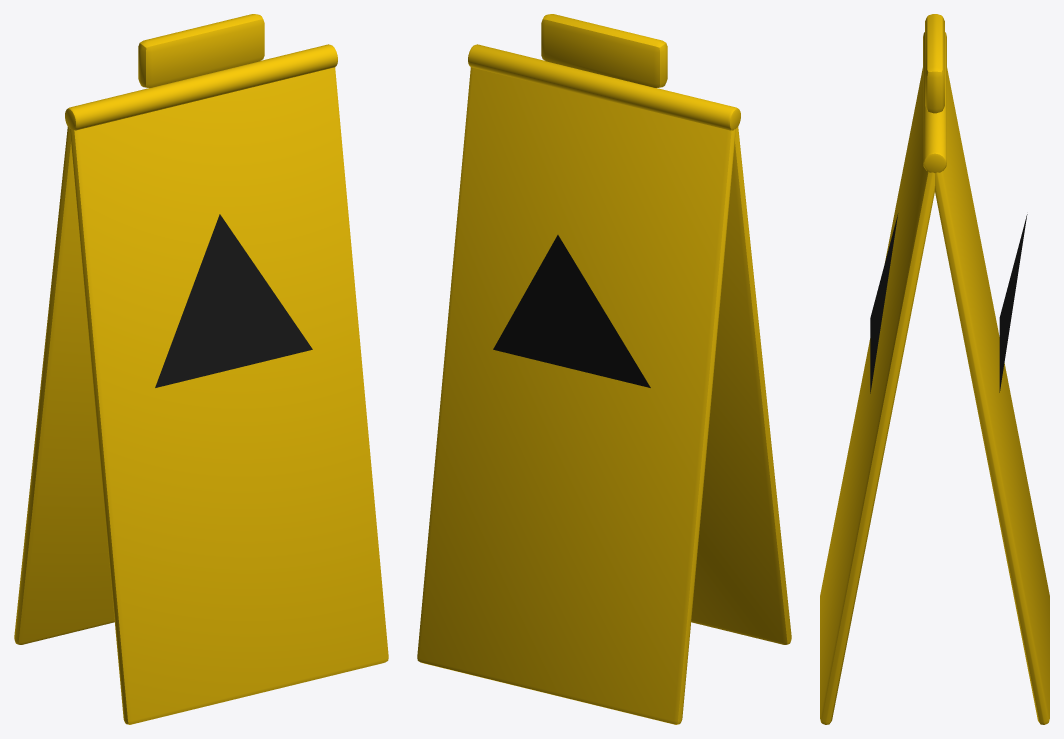
Rendered from WetFloorSign.fbx.
3 renders of one model, left to right at view 1: azimuth 30°, elevation 25°; view 2: azimuth 150°, elevation 25°; view 3: azimuth 270°, elevation 25°, orthographic.
Parts seen in each view (by area): view 1: WetFloorSign; view 2: WetFloorSign; view 3: WetFloorSign.
Boxes of the visible parts, <box> form: WetFloorSign: <box>14,14,388,724</box>; WetFloorSign: <box>417,14,791,724</box>; WetFloorSign: <box>820,14,1049,724</box>.
Size of the model in its own units: 0.3 by 0.6804 by 0.2276.
